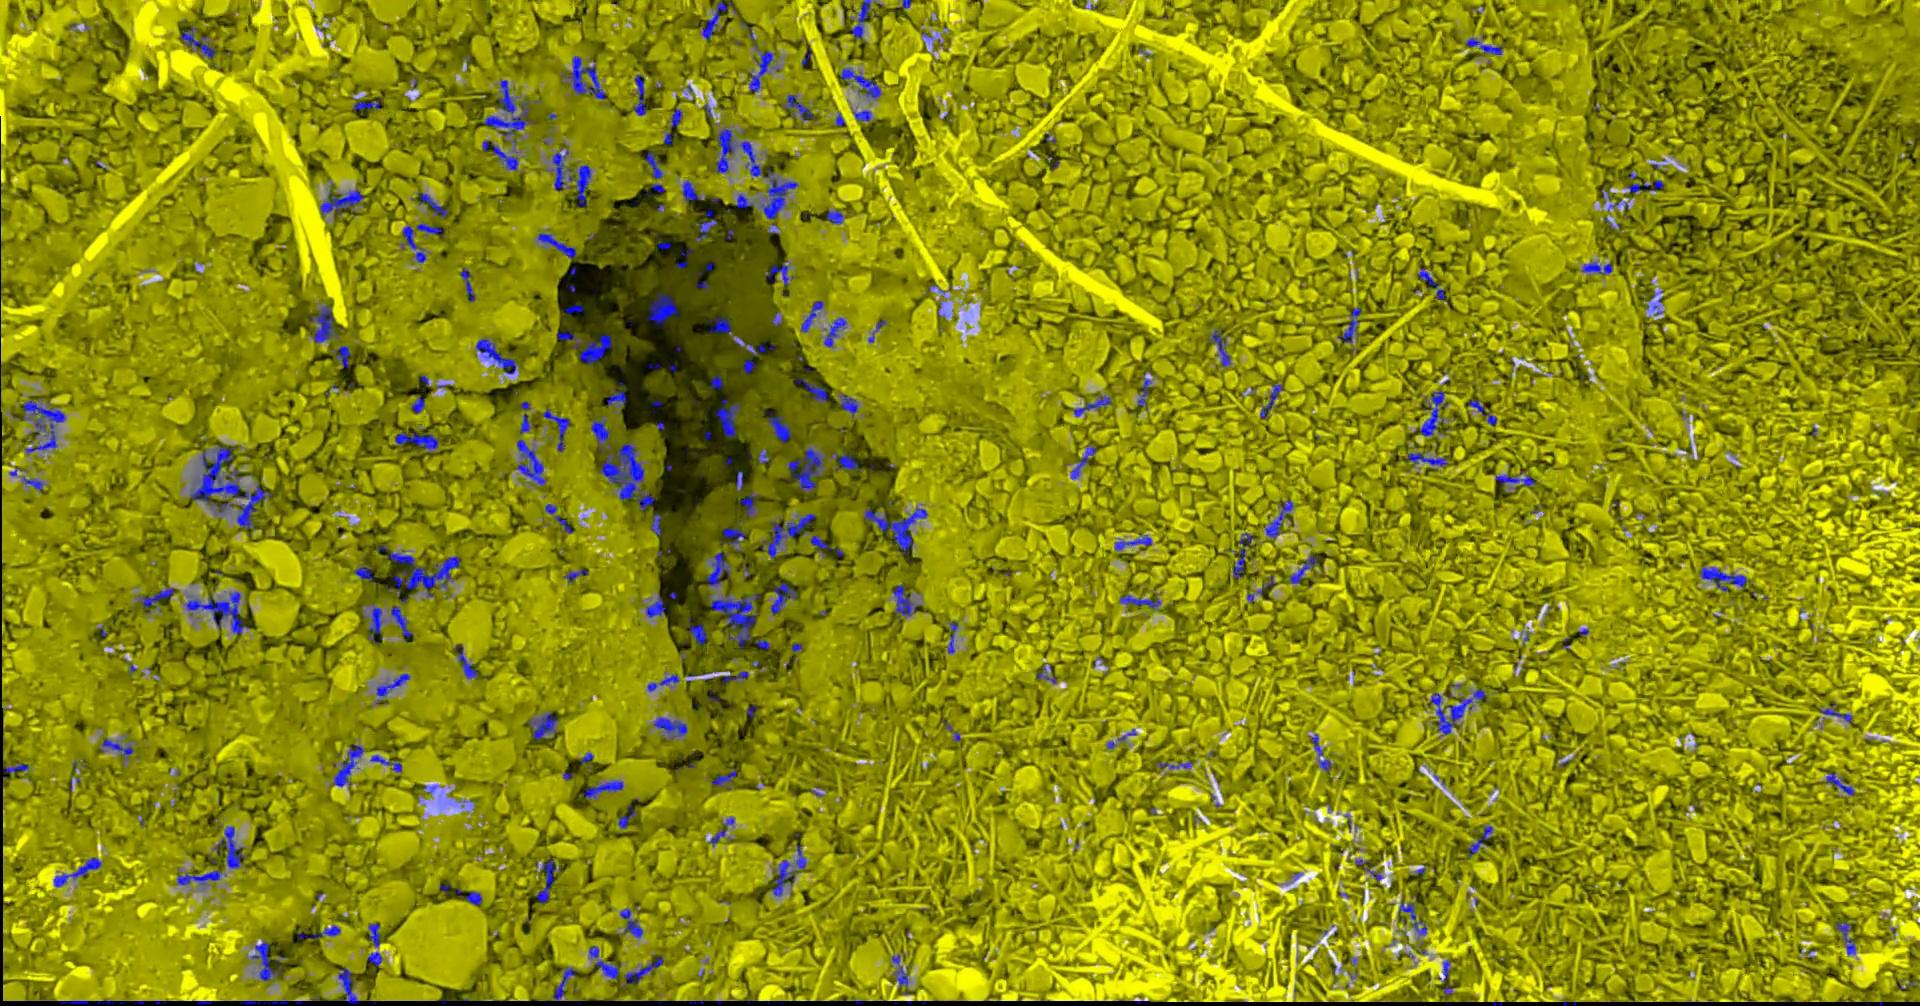ant: (483, 79, 533, 144), (863, 507, 927, 553), (1430, 687, 1488, 734), (185, 591, 249, 634), (17, 398, 63, 453), (759, 513, 815, 558), (551, 147, 590, 206), (771, 843, 805, 895), (400, 222, 443, 262), (787, 447, 825, 492), (566, 55, 604, 98), (319, 183, 363, 216), (331, 743, 364, 788), (475, 338, 516, 373), (53, 857, 102, 887), (1418, 390, 1448, 436), (516, 439, 545, 485), (213, 826, 245, 868), (250, 940, 282, 981), (328, 967, 359, 1005), (701, 0, 731, 39), (844, 0, 875, 39), (841, 67, 880, 98), (179, 25, 215, 58), (535, 857, 560, 903), (542, 408, 569, 451), (1263, 499, 1293, 539), (1699, 567, 1746, 591), (483, 138, 518, 170), (748, 50, 775, 91), (623, 955, 663, 983), (309, 304, 337, 342), (578, 333, 611, 365), (648, 292, 678, 326), (891, 584, 921, 620), (588, 945, 618, 978), (375, 673, 409, 702), (1232, 532, 1253, 578), (537, 232, 575, 258), (394, 431, 438, 452), (1398, 901, 1426, 935), (715, 398, 739, 437), (138, 587, 173, 614), (411, 192, 447, 217), (1416, 267, 1444, 298), (526, 711, 557, 739), (705, 551, 730, 586), (543, 503, 571, 533), (770, 582, 796, 614), (1208, 329, 1230, 366), (764, 409, 790, 442), (1337, 307, 1361, 342), (453, 644, 477, 678), (731, 335, 775, 354), (1288, 555, 1317, 583), (1258, 382, 1281, 418), (781, 94, 813, 119), (1467, 826, 1492, 857), (794, 377, 827, 401), (1070, 445, 1095, 478), (177, 869, 225, 885), (1073, 395, 1110, 417), (390, 605, 411, 641), (1310, 733, 1331, 771), (651, 716, 687, 738), (695, 208, 717, 241), (583, 780, 622, 799), (1468, 399, 1496, 426), (709, 815, 734, 845), (809, 535, 843, 556), (800, 300, 823, 332), (552, 967, 575, 998), (100, 738, 133, 760), (719, 518, 745, 545), (3, 760, 29, 786), (764, 260, 792, 286), (618, 908, 643, 937), (1495, 469, 1534, 486), (1835, 921, 1855, 954), (1464, 37, 1501, 55), (830, 451, 862, 471), (823, 318, 846, 345), (1119, 593, 1161, 608), (1826, 772, 1854, 795), (1818, 702, 1851, 721), (367, 603, 382, 644), (1114, 533, 1150, 550), (646, 673, 679, 691), (632, 74, 646, 116), (1406, 452, 1448, 466), (1355, 859, 1382, 880), (370, 754, 401, 772), (297, 925, 340, 937), (891, 954, 907, 988), (460, 268, 475, 301), (645, 593, 665, 617), (1625, 179, 1663, 192), (687, 617, 706, 643), (1137, 372, 1150, 406), (644, 152, 662, 178), (455, 888, 481, 904), (681, 180, 700, 203), (839, 394, 858, 417), (617, 804, 635, 828), (1581, 260, 1611, 274), (556, 332, 582, 348), (519, 400, 532, 433), (740, 492, 757, 517), (711, 768, 737, 785), (707, 316, 731, 333), (606, 387, 626, 406), (869, 319, 885, 342), (334, 344, 350, 367), (721, 669, 748, 683), (352, 98, 381, 111), (946, 621, 957, 653), (1036, 666, 1057, 683), (563, 568, 588, 582), (676, 246, 691, 268), (353, 567, 375, 582), (1156, 760, 1192, 768), (22, 476, 43, 490), (734, 193, 753, 208), (367, 922, 378, 946), (1437, 959, 1450, 981), (237, 1000, 287, 1005), (825, 210, 843, 224), (410, 395, 424, 413), (650, 513, 662, 535), (709, 375, 723, 391), (670, 108, 682, 127), (367, 951, 381, 967), (657, 235, 670, 249), (757, 448, 770, 464), (742, 359, 754, 373), (95, 998, 123, 1005), (852, 111, 871, 119), (564, 304, 583, 312), (735, 470, 743, 490), (58, 1000, 88, 1005), (756, 639, 770, 649)
